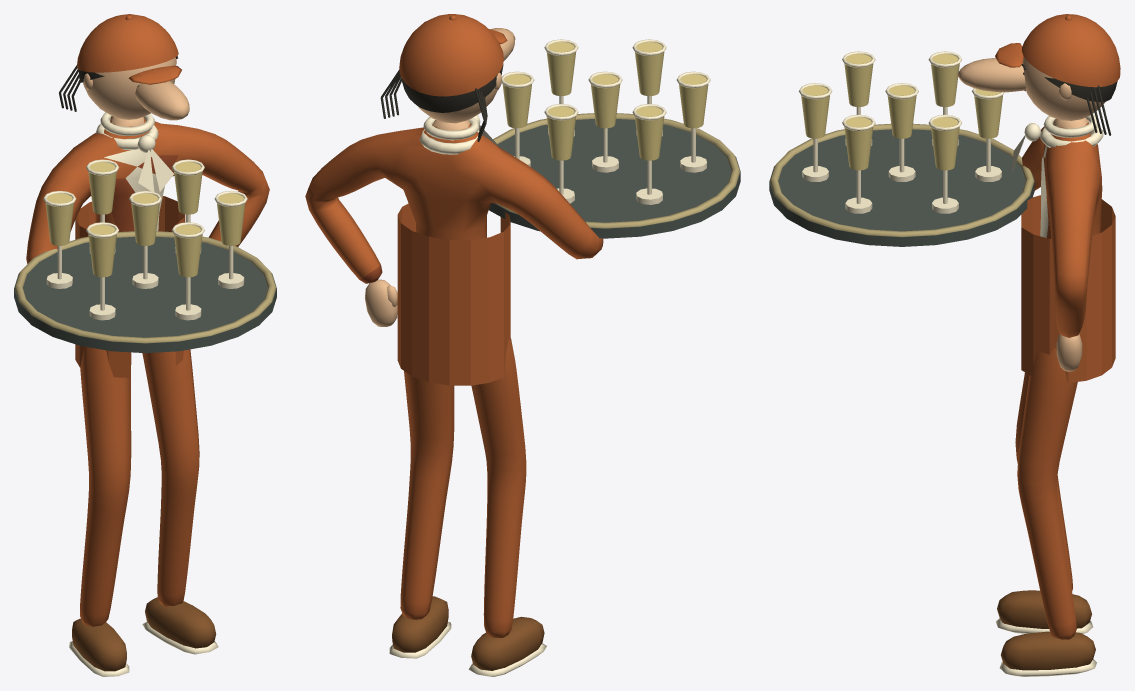
The model's file is sjampanje_plateauuitbater.glb.
The picture shows the model from 3 angles, left to right: view 1: azimuth 30°, elevation 25°; view 2: azimuth 150°, elevation 25°; view 3: azimuth 270°, elevation 25°; orthographic projection. The views are drawn at different scales.
Visible parts, largest first — view 1: PlateauUitbaterModel, PlateauMetZevenGlazen; view 2: PlateauUitbaterModel, PlateauMetZevenGlazen; view 3: PlateauMetZevenGlazen, PlateauUitbaterModel.
Boxes of the visible parts, left/top/right/bottom form: PlateauUitbaterModel: left=26, top=14, right=269, bottom=676; PlateauMetZevenGlazen: left=14, top=65, right=276, bottom=377; PlateauUitbaterModel: left=305, top=14, right=603, bottom=676; PlateauMetZevenGlazen: left=380, top=28, right=740, bottom=385; PlateauMetZevenGlazen: left=769, top=51, right=1115, bottom=382; PlateauUitbaterModel: left=995, top=14, right=1120, bottom=676.
Bounding box in the file's own units: 0.9685 × 1.82 × 0.913.
